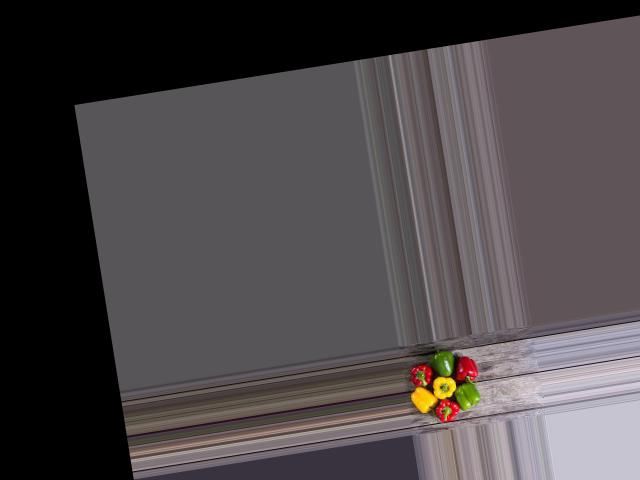bell_pepper: (403, 362, 435, 393)
